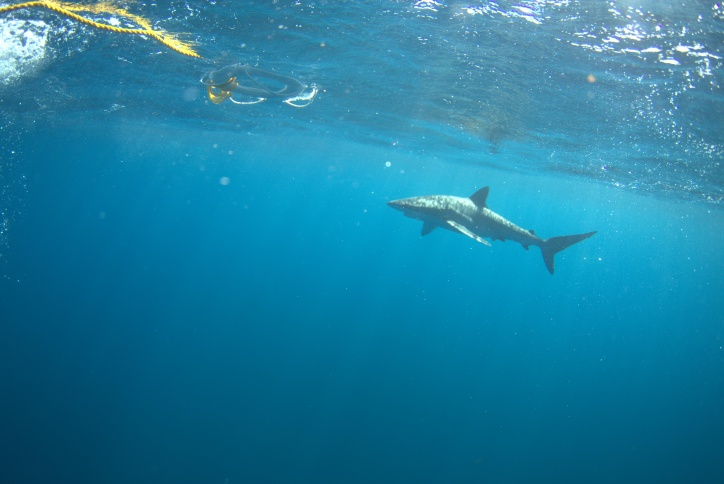Sedoso: (353, 180, 605, 284)
